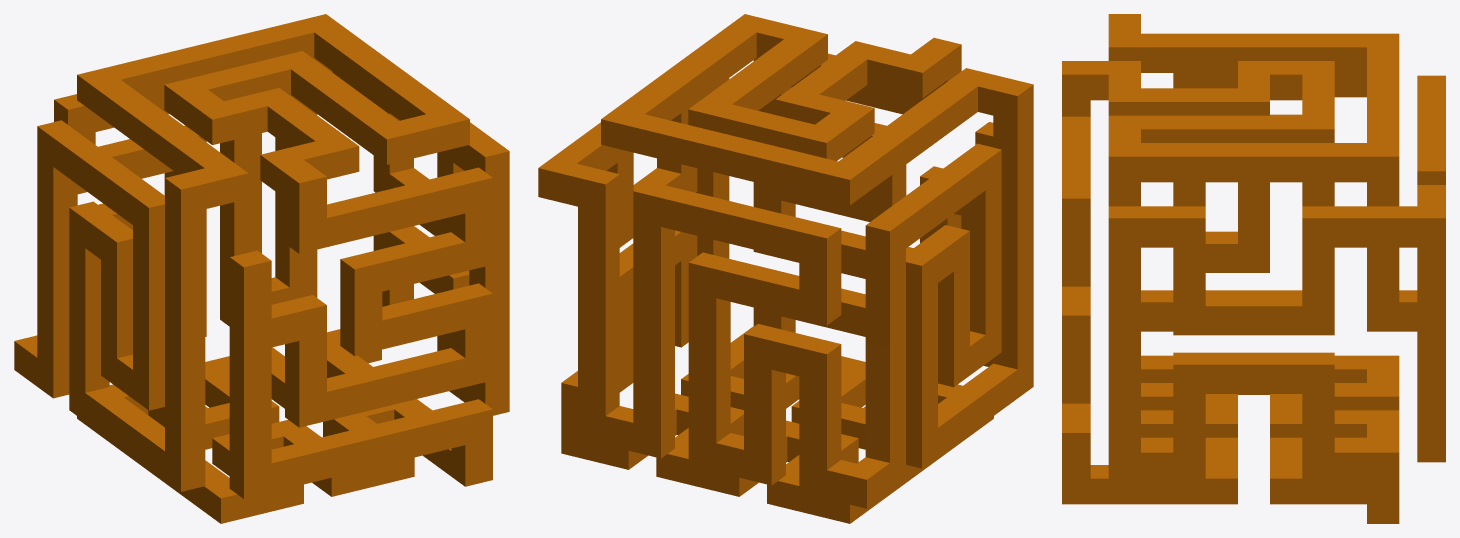
The model's file is Bloc04_actif.FBX.
3 renders of one model, left to right at view 1: azimuth 30°, elevation 25°; view 2: azimuth 150°, elevation 25°; view 3: azimuth 270°, elevation 25°, orthographic.
Visible parts, largest first — view 1: Bloc_04_actif; view 2: Bloc_04_actif; view 3: Bloc_04_actif.
Part boxes in pixels (left/top/right/bottom): Bloc_04_actif: left=14, top=14, right=509, bottom=523; Bloc_04_actif: left=538, top=14, right=1033, bottom=523; Bloc_04_actif: left=1062, top=14, right=1445, bottom=523.
Size of the model in its own units: 108 by 108 by 108.
